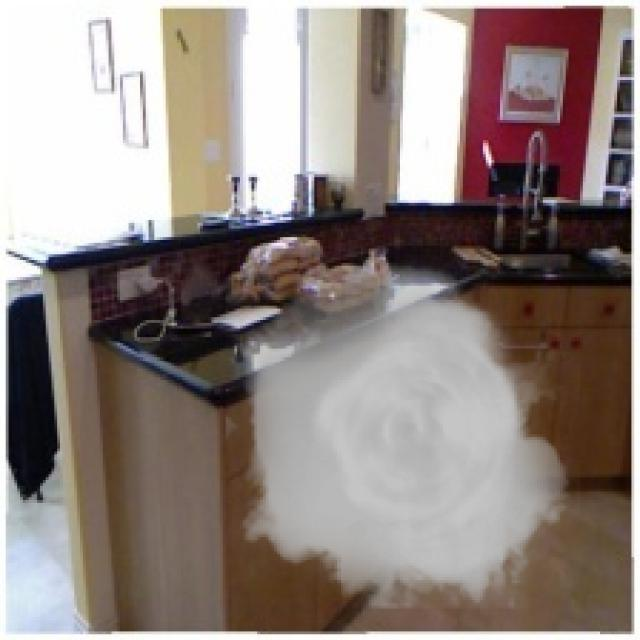Smoke: (225, 262, 580, 608)
